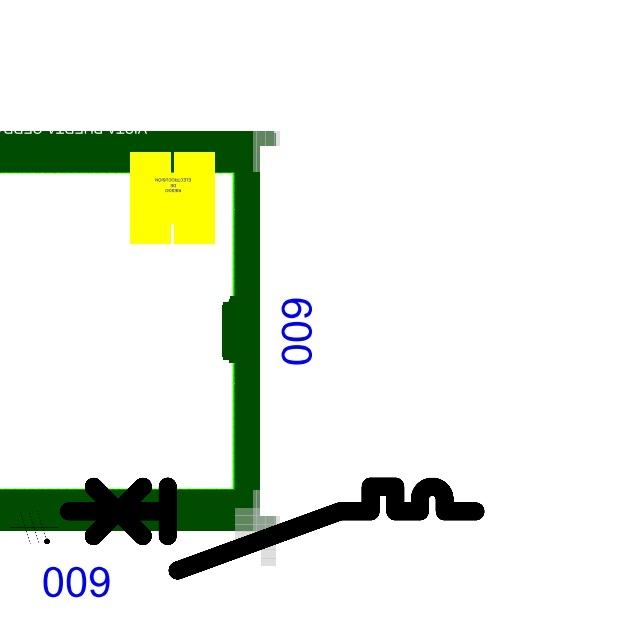interruptor_termomagnetico: (58, 476, 486, 580)
